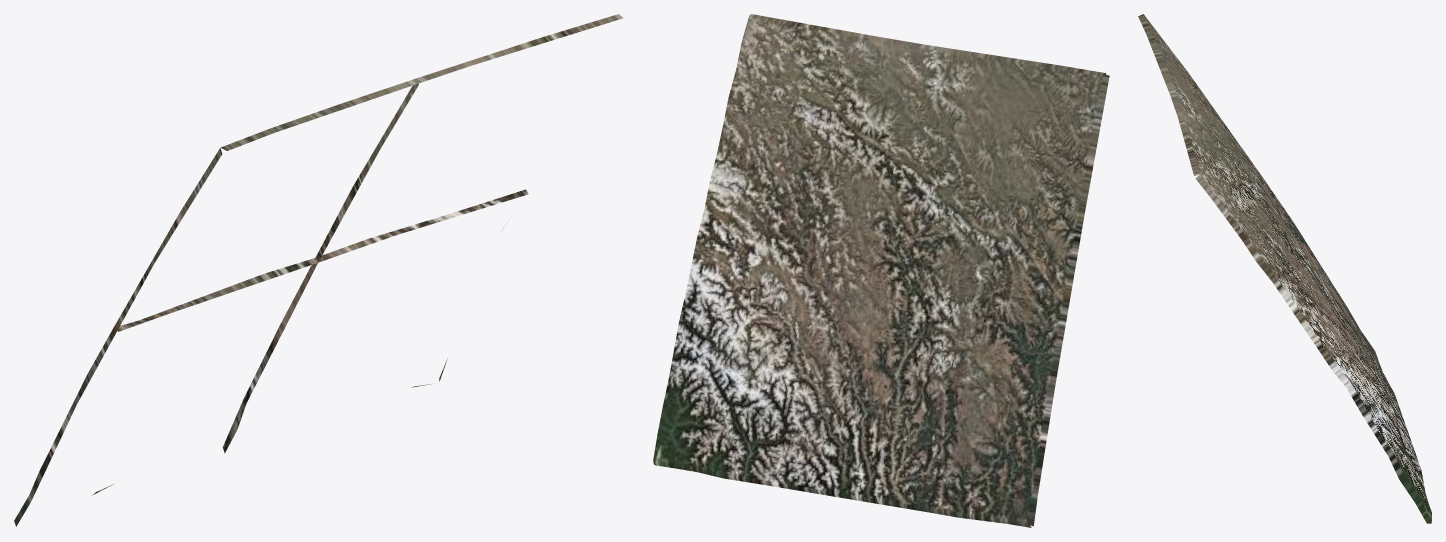
3 views of the same model, side by side, from view 1: azimuth 30°, elevation 25°; view 2: azimuth 150°, elevation 25°; view 3: azimuth 270°, elevation 25° (orthographic). The views are drawn at different scales.
Size of the model in its own units: 585537 by 546672 by 400452.
1 material, 1 textured.
